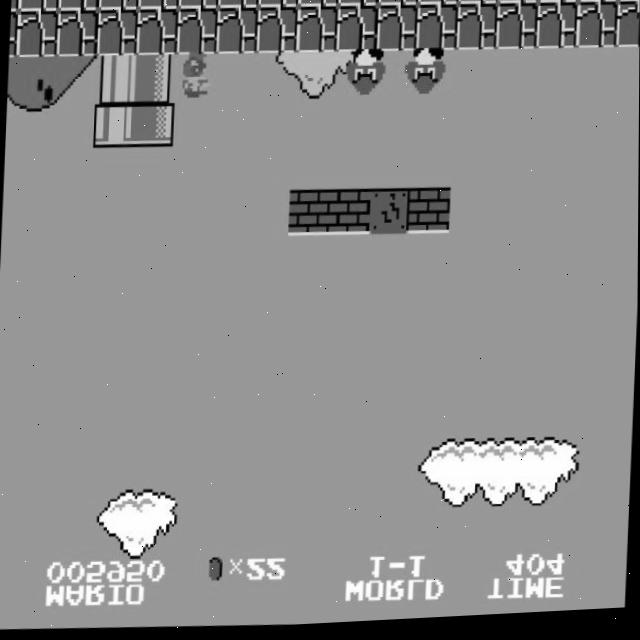1- brick_block: (288, 191, 331, 240), (328, 191, 371, 240), (408, 191, 451, 239)
11- little_mario: (171, 52, 217, 103)
13- mystery_block: (368, 191, 411, 239)
14- pipe: (93, 55, 137, 104), (133, 55, 177, 104)
15- pipe_head: (92, 100, 135, 149), (132, 100, 175, 149)
17- undestructible_block: (55, 9, 98, 58), (95, 9, 138, 58), (215, 8, 258, 57), (255, 8, 298, 57), (375, 7, 418, 56), (415, 7, 458, 56), (455, 7, 498, 56), (535, 6, 578, 55), (575, 6, 618, 55), (16, 10, 59, 58), (135, 9, 178, 57), (175, 9, 218, 57), (295, 8, 338, 56), (335, 8, 378, 56), (495, 7, 538, 55), (615, 7, 640, 55), (57, 0, 99, 13), (17, 0, 59, 12), (97, 0, 139, 12), (177, 0, 219, 12), (257, 0, 299, 12), (137, 0, 179, 11), (217, 0, 259, 11), (297, 0, 339, 11), (337, 0, 379, 11), (377, 0, 419, 11), (417, 0, 459, 11), (457, 0, 499, 10), (497, 0, 539, 10), (537, 0, 579, 10), (9, 11, 18, 57), (577, 0, 619, 9), (617, 0, 640, 9), (10, 0, 18, 12)
8- goomba: (341, 51, 387, 103), (401, 50, 446, 102)
